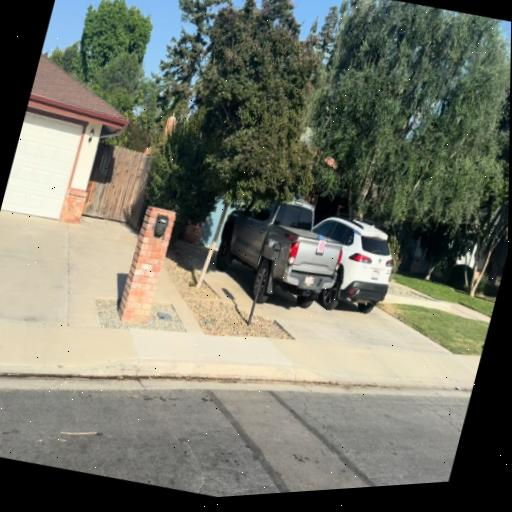bullseye: (317, 240, 326, 253)
